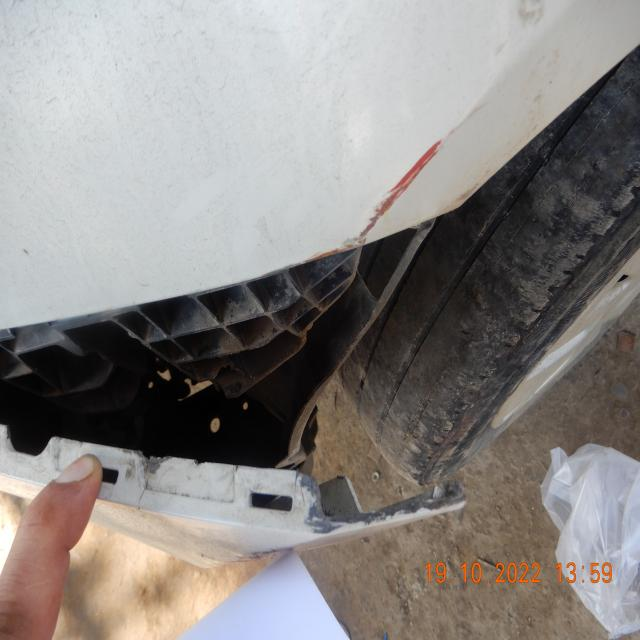damage: (0, 243, 414, 469), (359, 137, 439, 233)
